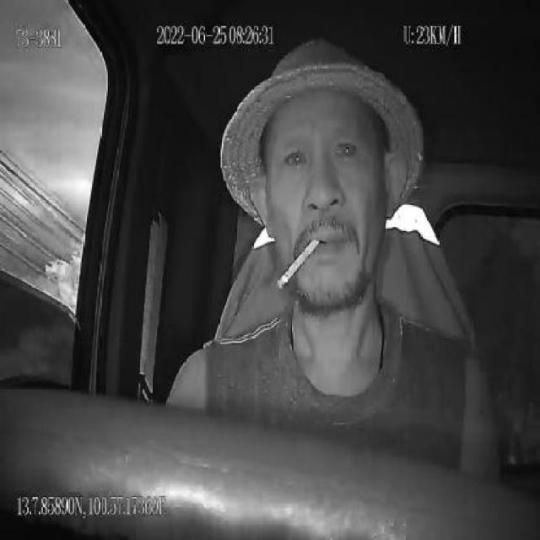smoking: (278, 238, 320, 292)
